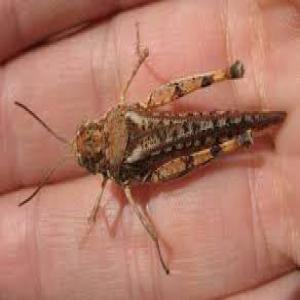locust: (43, 34, 292, 226)
